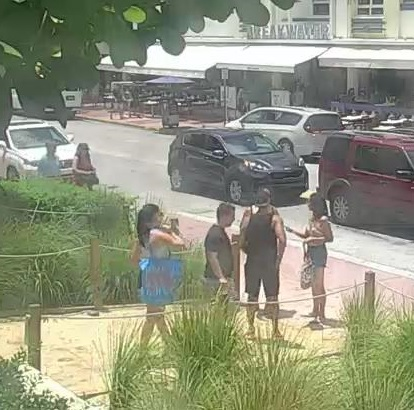person: (129, 190, 184, 357), (236, 180, 286, 349), (297, 184, 333, 324), (198, 195, 239, 315), (37, 130, 60, 186), (71, 139, 95, 189)
vehicle: (167, 119, 312, 210), (318, 127, 413, 227), (217, 103, 342, 162), (0, 114, 86, 189), (4, 61, 87, 121)
